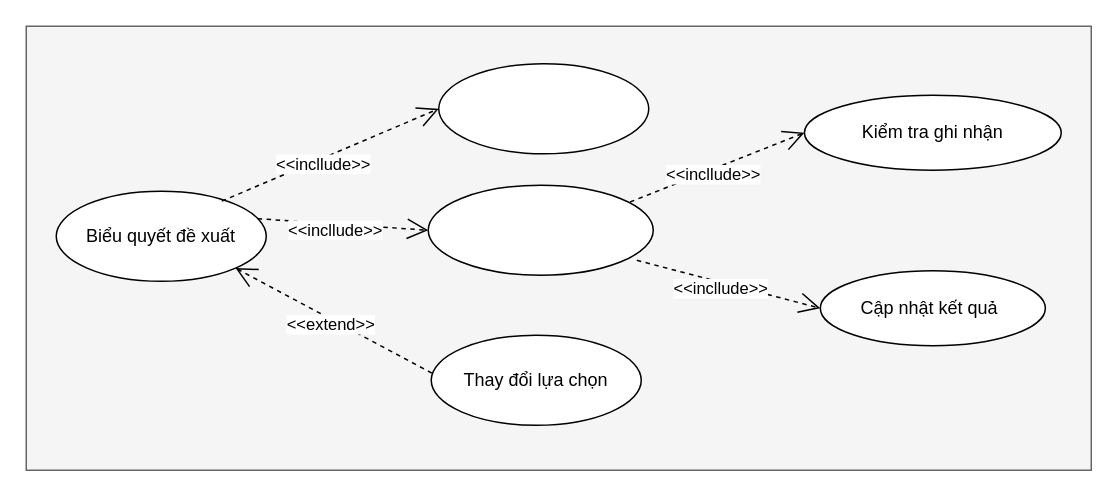
This 1118x497 diagram has some shape labels left out. The box of each missing label's shape, as (x1, y1, x2, y2) in pixels:
Ghi nhận biểu quyết: (427, 184, 653, 275)
Kiểm tra quyền biểu quyết: (437, 62, 649, 154)
